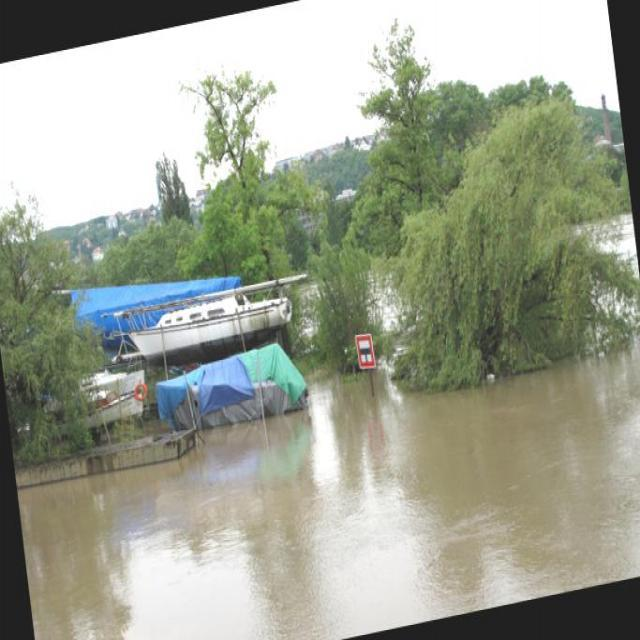flood: (10, 310, 639, 639)
